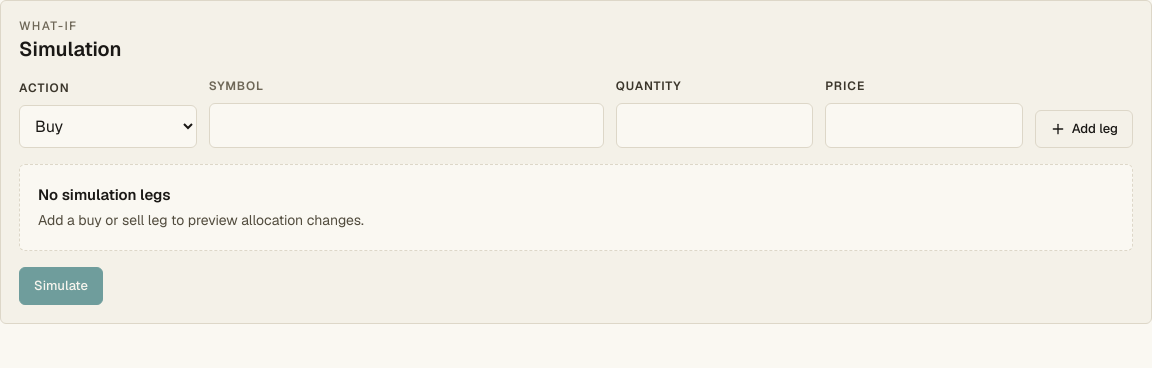
SimulationPanel › disables simulation when there are no legs
Expected: the button "Simulate" is disabled, x1=19 y1=267 x2=103 y2=305
Type "QQQ" into the dropdown labelled "Symbol" at (406, 125), box x1=209 y1=103 x2=604 y2=148
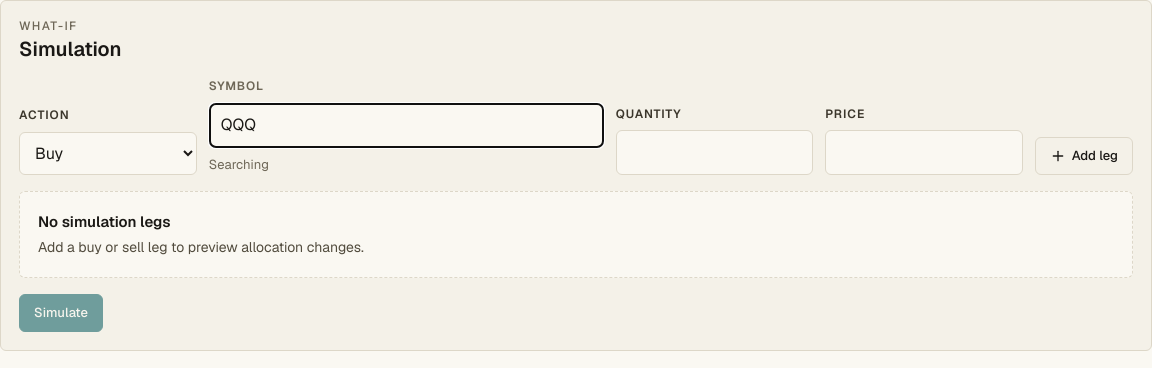
Type "2" into the number field labelled "Quantity" at (714, 152), box x1=616 y1=130 x2=813 y2=175
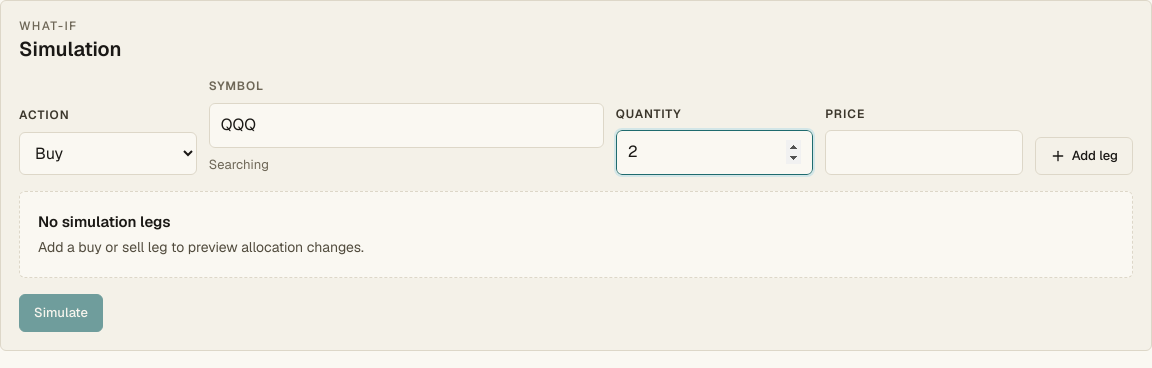
Click the button "Add leg" at (1084, 156), box x1=1035 y1=137 x2=1133 y2=175
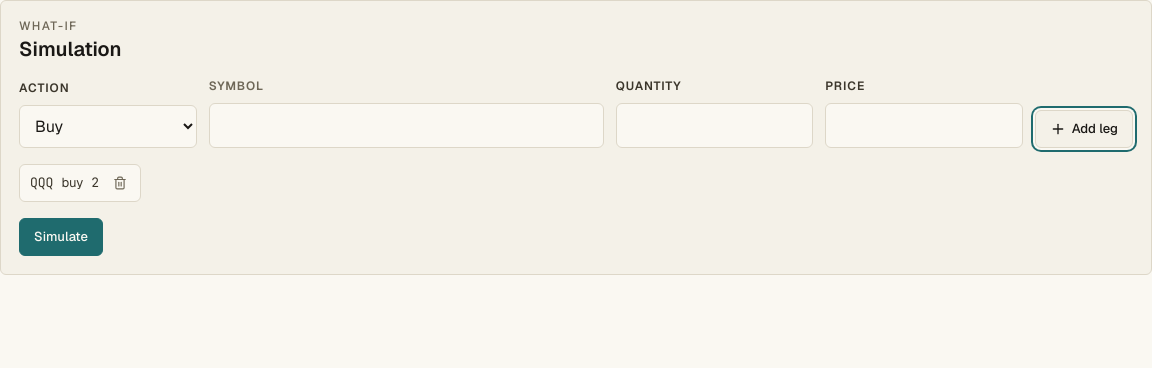
Now the button "Simulate" is enabled, box x1=19 y1=218 x2=103 y2=256
Click the button named "Remove QQQ buy leg" at (120, 183), box x1=107 y1=170 x2=133 y2=196
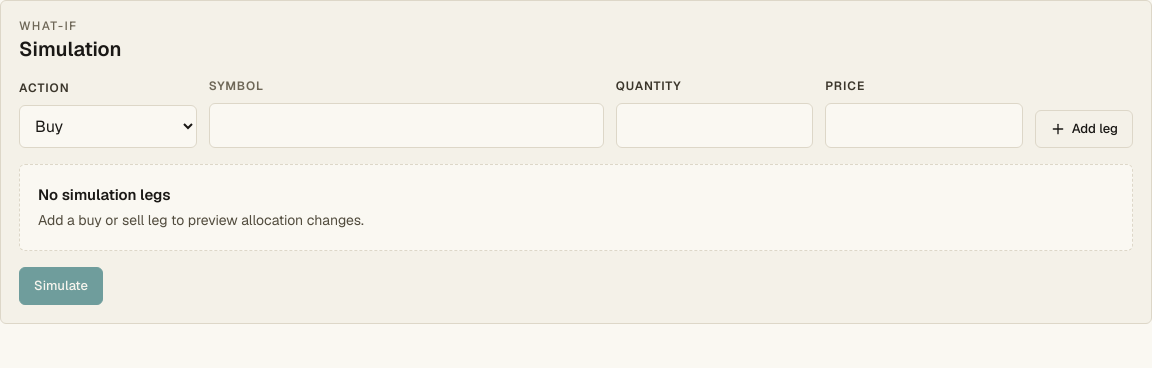
Now the button "Simulate" is disabled, box x1=19 y1=267 x2=103 y2=305
